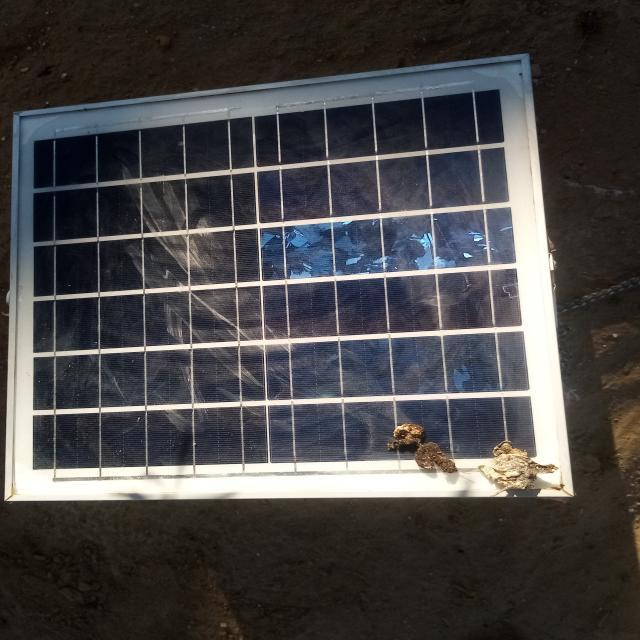faulty: (10, 54, 574, 498)
